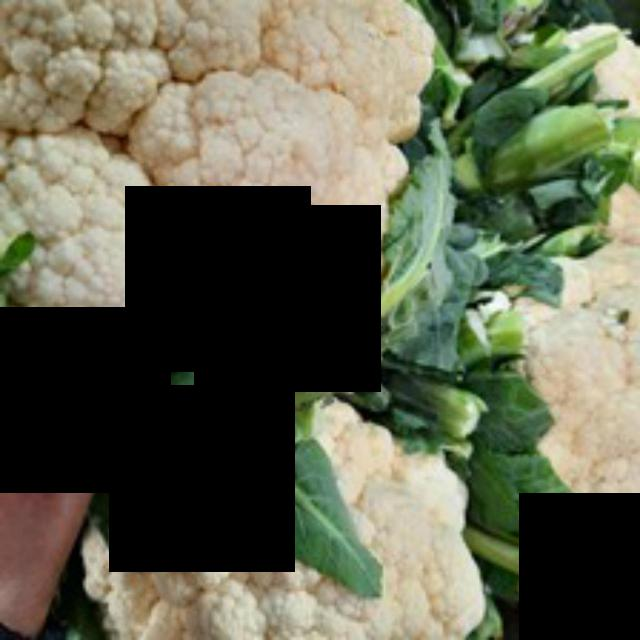cauliflower: (0, 0, 446, 352)
